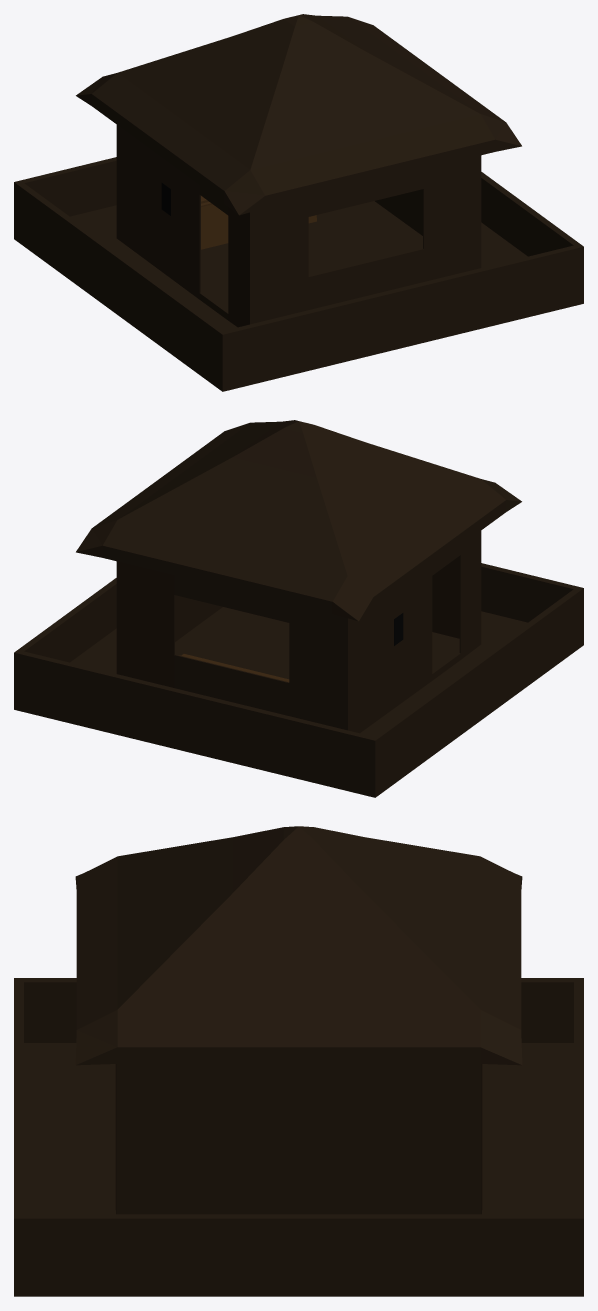
3 views of the same model, one above another, from view 1: azimuth 30°, elevation 25°; view 2: azimuth 150°, elevation 25°; view 3: azimuth 270°, elevation 25° (orthographic). The views are drawn at different scales.
Parts seen in each view (by area): view 1: Cube (×2); view 2: Cube; view 3: Cube.
Part boxes in pixels (<box>): Cube (×2): <box>14,14,583,391</box>; Cube: <box>14,420,583,797</box>; Cube: <box>14,826,583,1296</box>.
Size of the model in its own units: 27.97 by 18.99 by 27.98.
